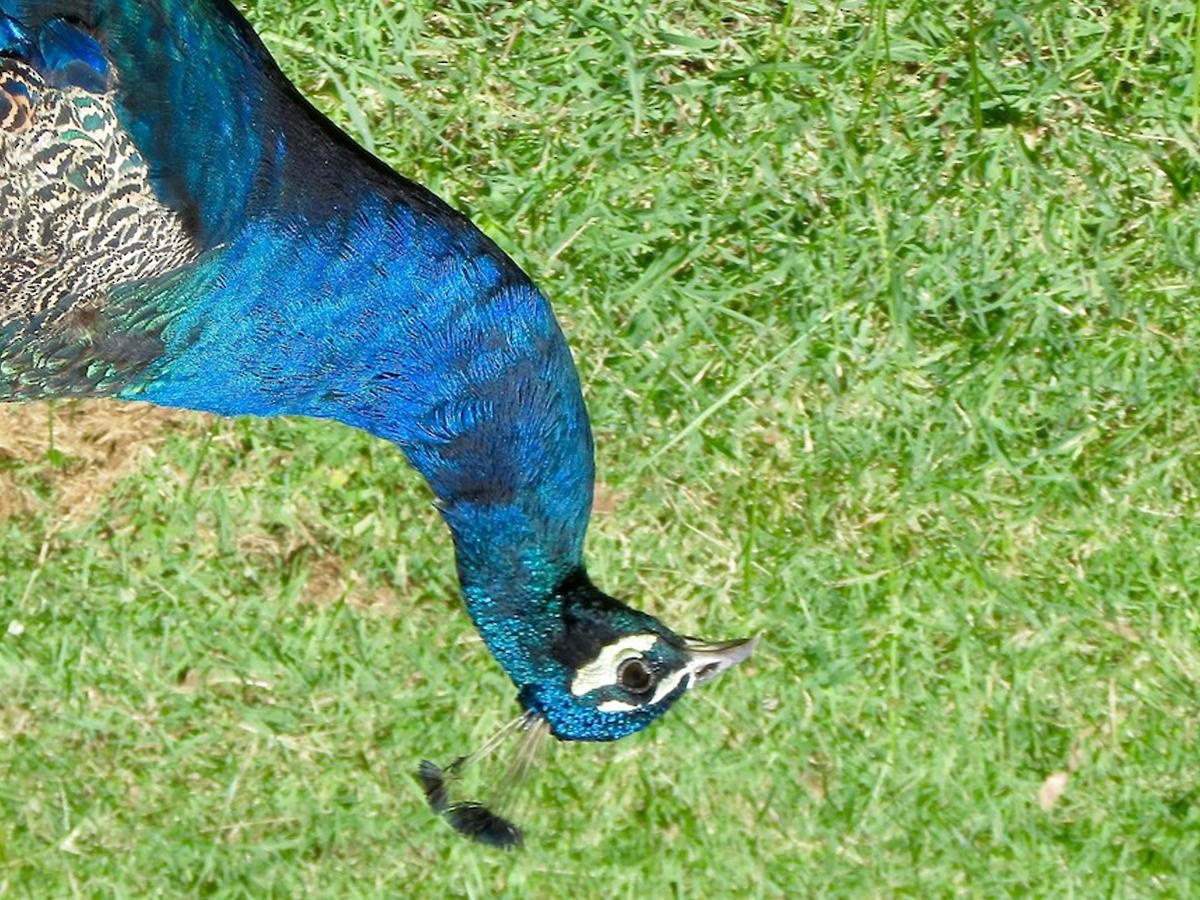peacock: (38, 6, 747, 764)
